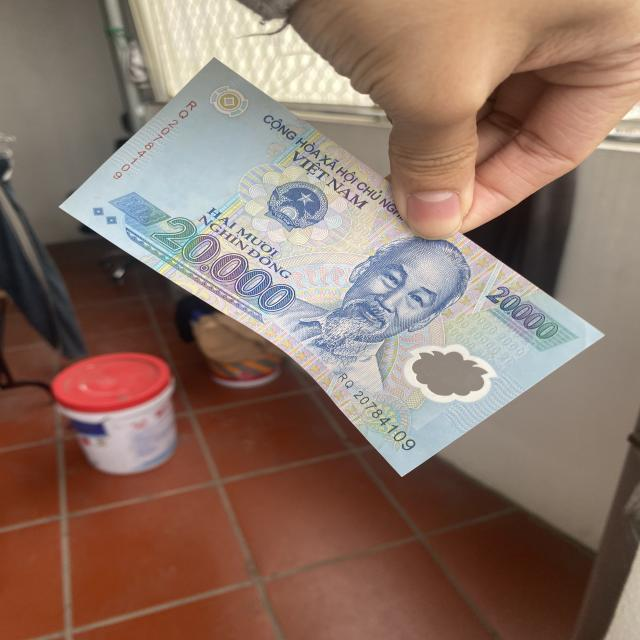20 000 VND: (58, 55, 608, 480)
